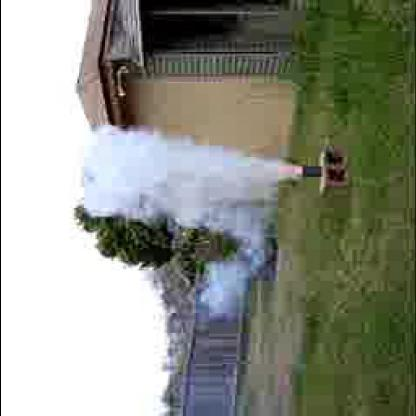Smoke: (75, 133, 286, 236)
